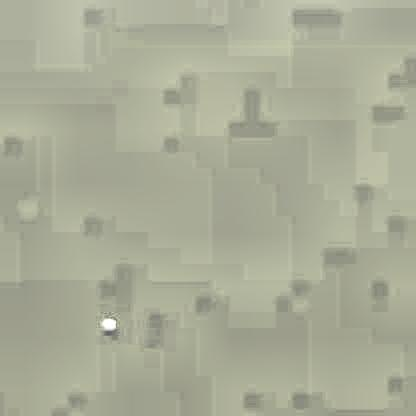golfball: (98, 315, 115, 333)
